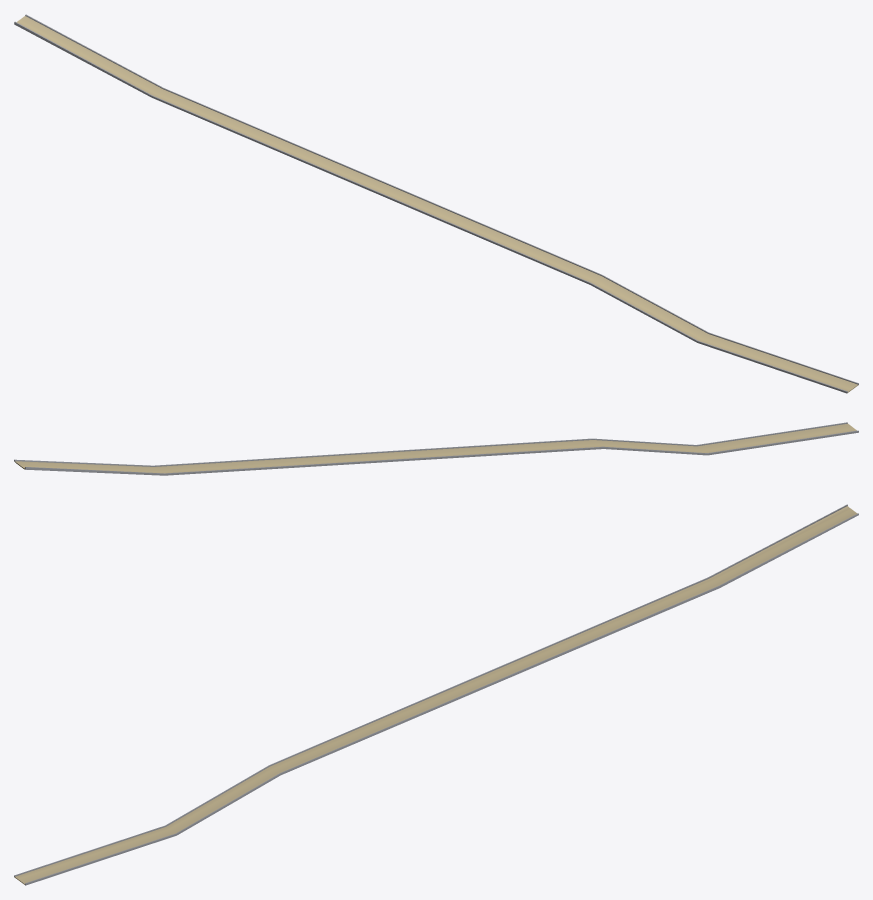
File: sidewalk_13.fbx
The picture shows the model from 3 angles, top to bottom: view 1: azimuth 90°, elevation 25°; view 2: azimuth 150°, elevation 25°; view 3: azimuth 330°, elevation 25°; orthographic projection.
Visible parts, largest first — view 1: sidewalk_12; view 2: sidewalk_12; view 3: sidewalk_12.
Boxes of the visible parts, <box> form: sidewalk_12: <box>14,14,858,393</box>; sidewalk_12: <box>14,422,858,475</box>; sidewalk_12: <box>14,504,858,885</box>.
Size of the model in its own units: 6.96 by 2.59 by 11.76.
Materials: 1 (1 with a texture image).
